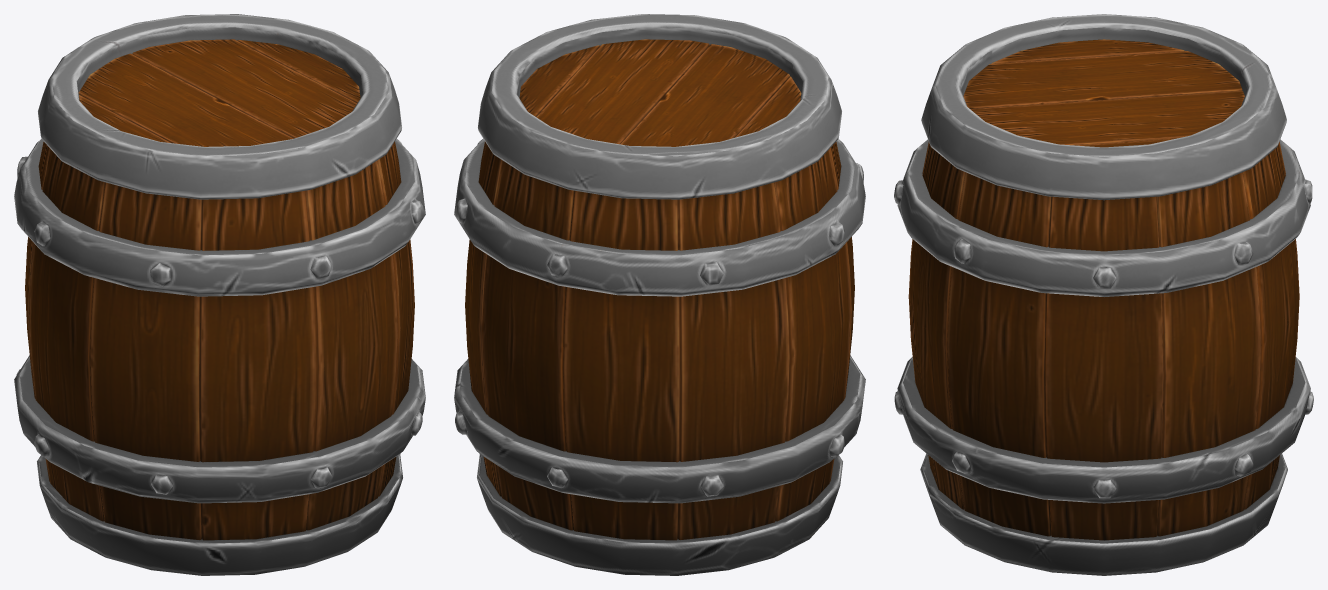
File: FIG0110012.fbx
3 views of the same model, side by side, from view 1: azimuth 30°, elevation 25°; view 2: azimuth 150°, elevation 25°; view 3: azimuth 270°, elevation 25° (orthographic).
Parts seen in each view (by area): view 1: smFIG0110012; view 2: smFIG0110012; view 3: smFIG0110012.
Boxes of the visible parts, <box> form: smFIG0110012: <box>14,14,425,575</box>; smFIG0110012: <box>454,14,865,575</box>; smFIG0110012: <box>894,14,1313,575</box>.
Bounding box in the file's own units: 67.36 × 74.1 × 67.25.
Materials: 1 (1 with a texture image).
